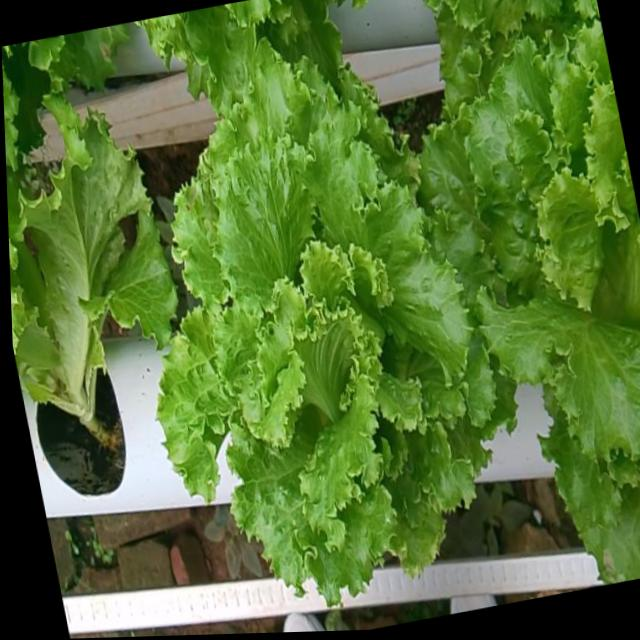Mature: (170, 72, 508, 613), (430, 49, 640, 481)
